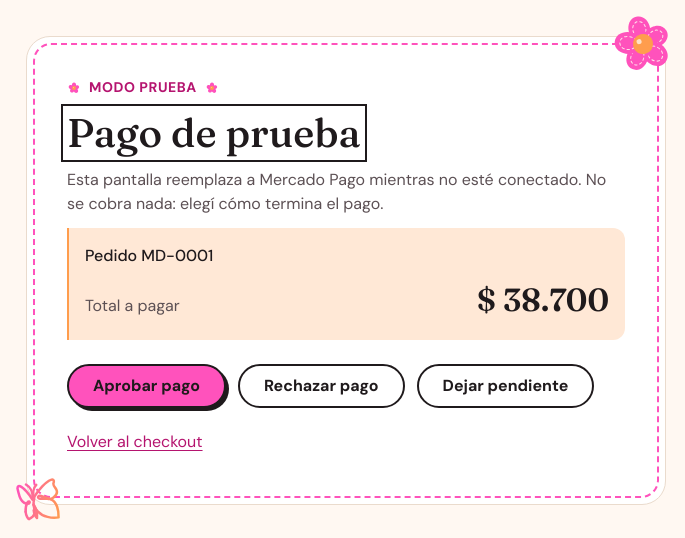
PaymentSimulator › resuelve el pago con lo que se elija, una sola vez
The image size is (685, 538).
Click the button "Rechazar pago" at (321, 386), box [238,364,405,408]
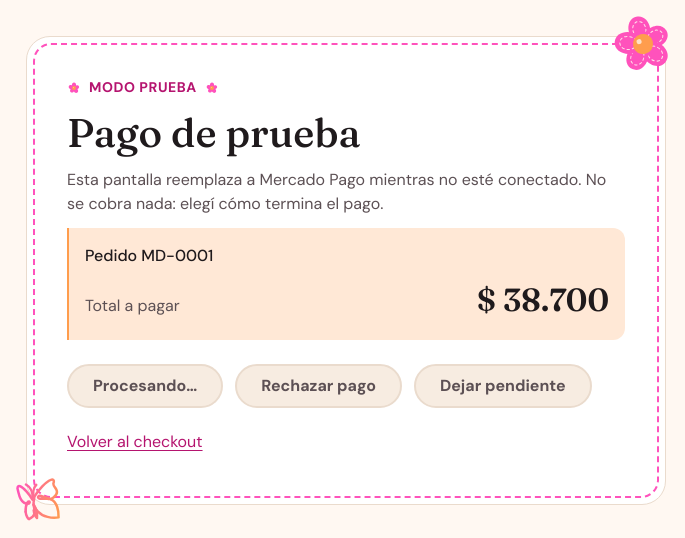
Check: the button "Procesando…" is disabled, box [67,364,223,408]
